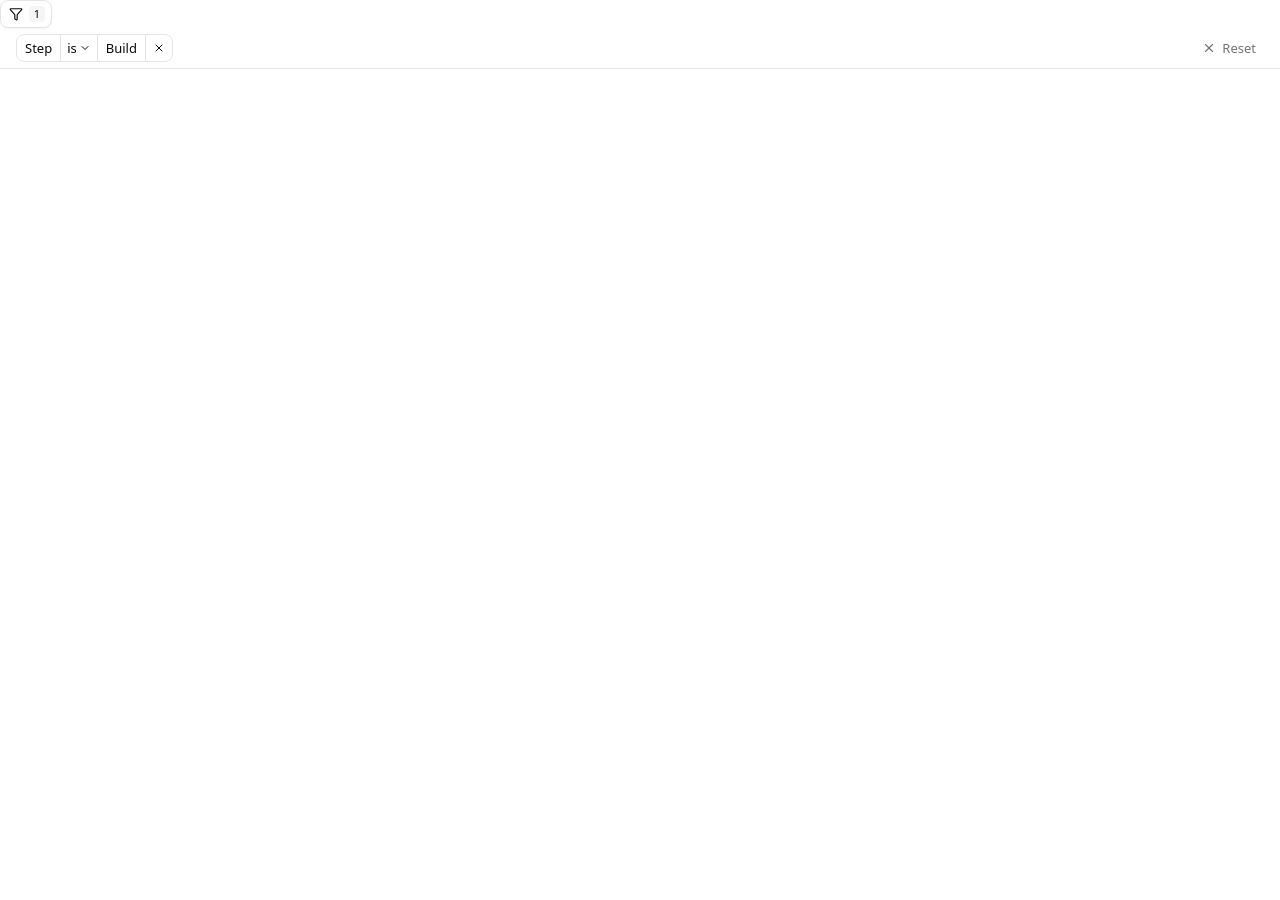
Test case: the Filter › shows a set axis as a chip, counts it on the button, and folds it out of the menu
The width and height of the screenshot is (1280, 900).
Click the button named "Filter" at (26, 14), box left=0, top=0, right=52, bottom=28
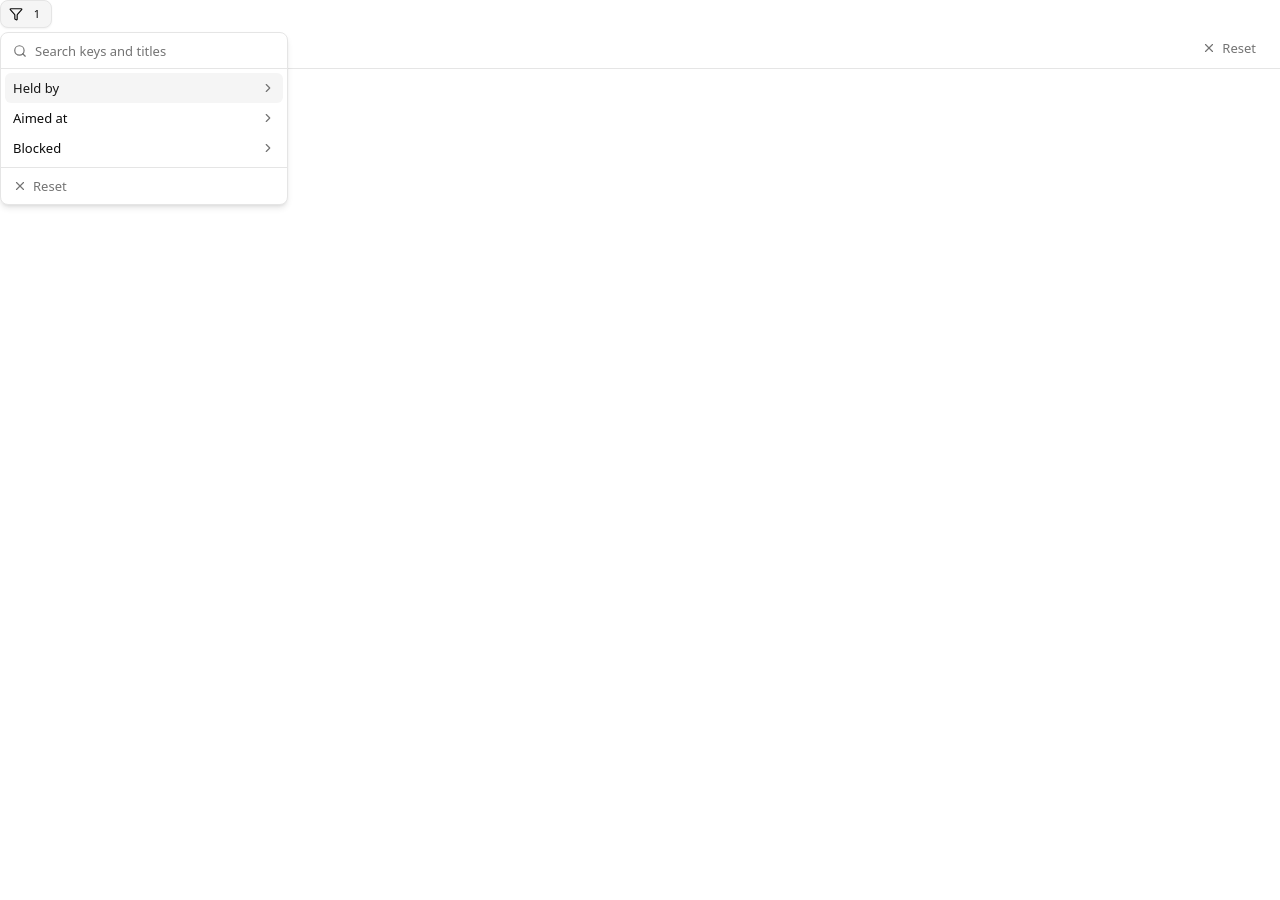
Result: the option "Held by" is shown at left=5, top=73, right=283, bottom=103
